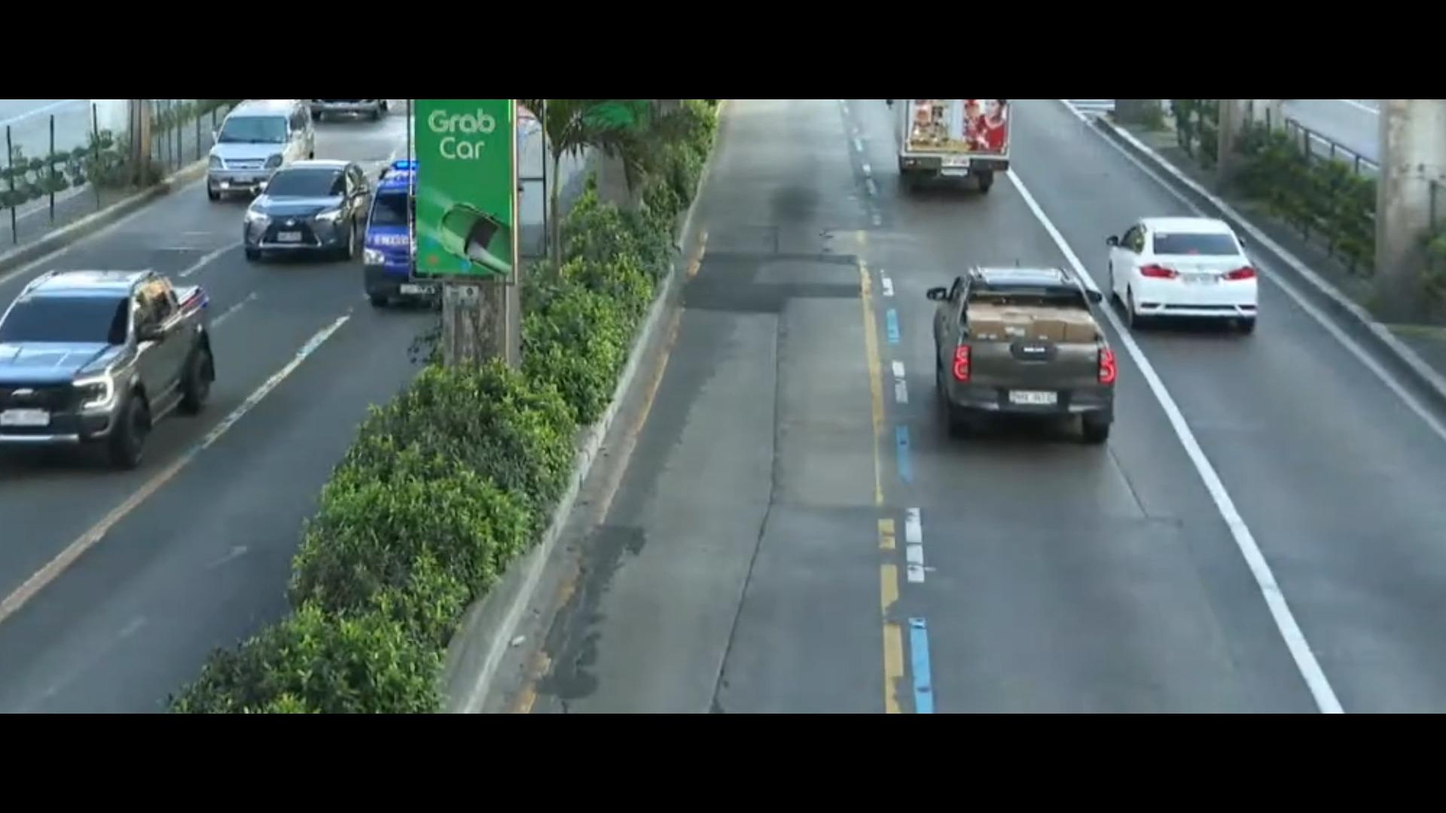Pickup: (0, 251, 258, 488), (893, 239, 1131, 453)
SUV: (198, 89, 315, 197)
Sedan: (1102, 198, 1275, 363), (231, 157, 369, 268)
Truck: (366, 145, 454, 324), (880, 98, 1013, 200)
